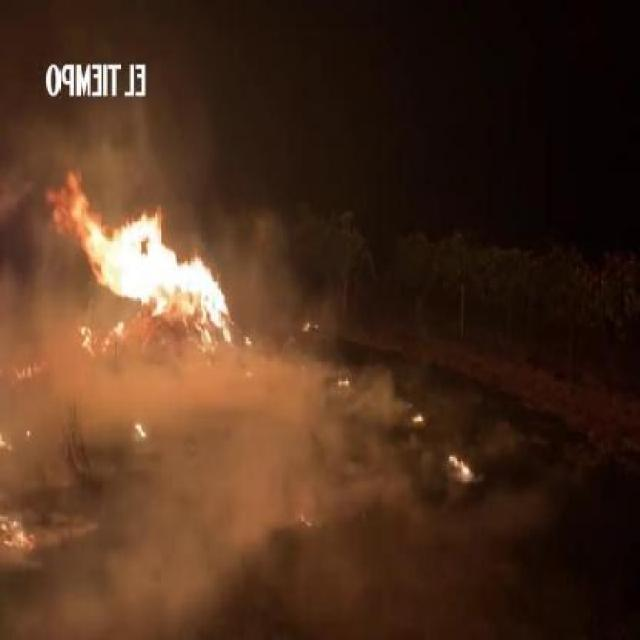Fire: (86, 198, 240, 350), (50, 174, 86, 232), (1, 506, 37, 559), (14, 358, 42, 380), (449, 452, 471, 479), (134, 420, 148, 440), (411, 413, 427, 424), (339, 372, 350, 386), (304, 318, 310, 332)
